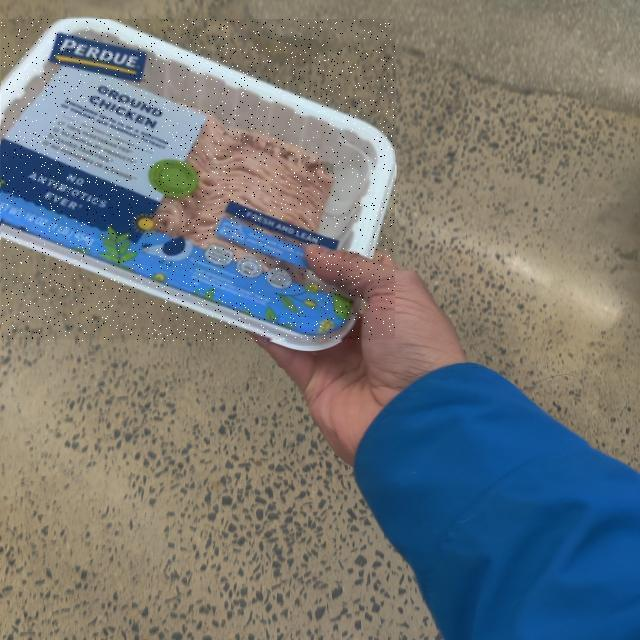Meat: (1, 20, 395, 342)
